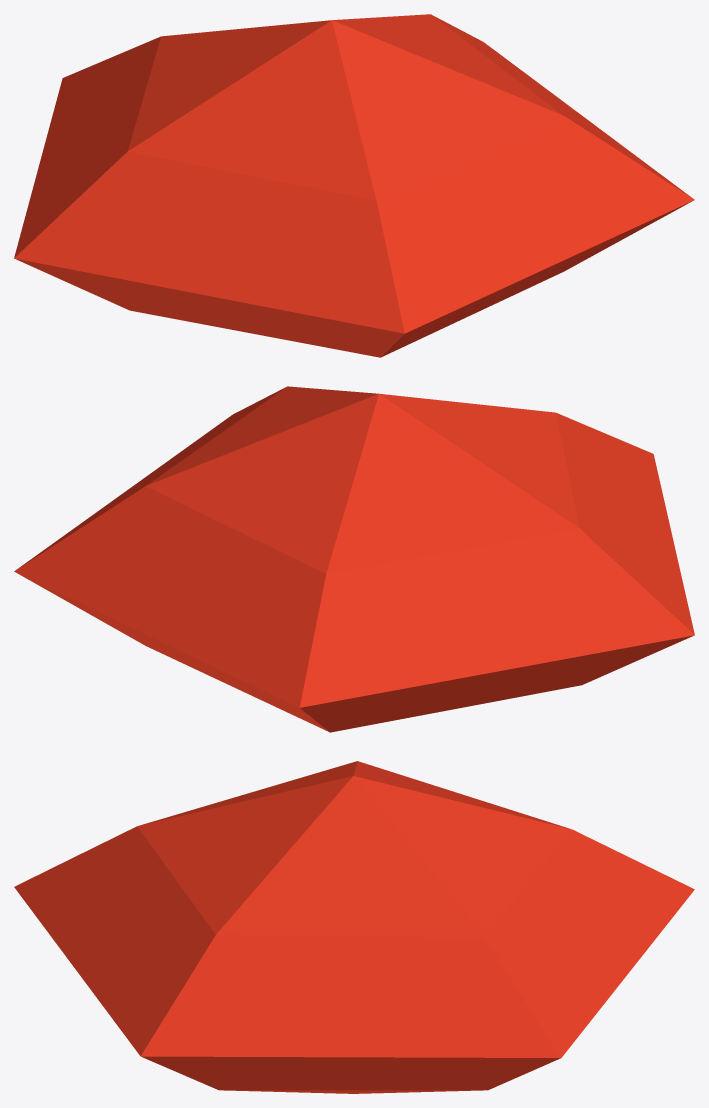
File: FireGem.fbx
3 views of the same model, one above another, from view 1: azimuth 30°, elevation 25°; view 2: azimuth 150°, elevation 25°; view 3: azimuth 270°, elevation 25° (orthographic). The views are drawn at different scales.
Parts seen in each view (by area): view 1: Icosphere.002; view 2: Icosphere.002; view 3: Icosphere.002.
Boxes of the visible parts, left/top/right/bottom form: Icosphere.002: left=14, top=14, right=694, bottom=357; Icosphere.002: left=14, top=386, right=694, bottom=732; Icosphere.002: left=14, top=761, right=694, bottom=1093.
Size of the model in its own units: 93.61 by 50.58 by 98.14.
